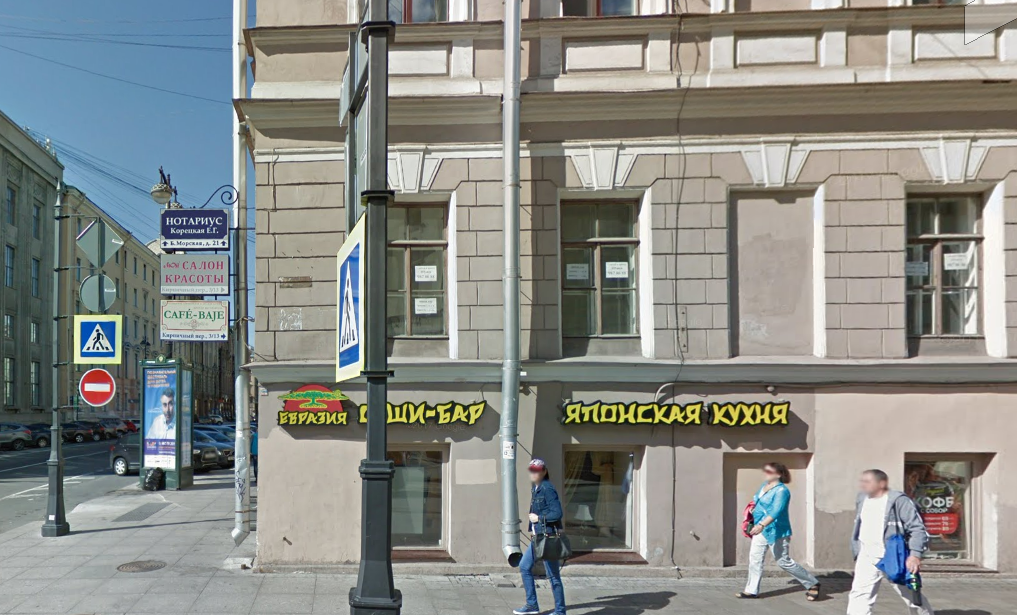cantilever: (155, 180, 266, 348)
signboard: (271, 378, 803, 440)
window: (902, 190, 987, 338), (561, 200, 637, 340), (899, 457, 975, 565), (562, 453, 637, 559), (391, 205, 447, 340), (389, 448, 445, 551)
